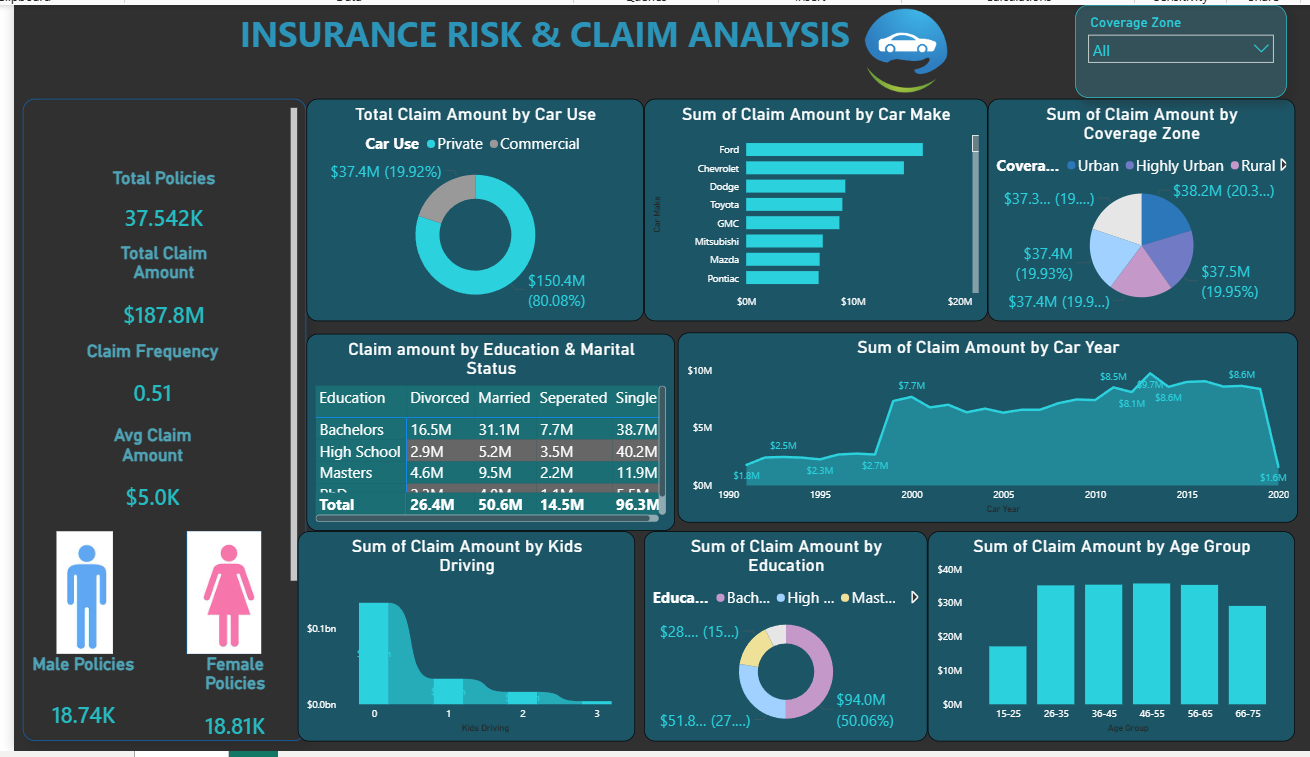

This screenshot's page, from the dashboard's own definition file:
{"tool":"powerbi","page":{"name":"Page 1","canvas":[1600,920],"ordinal":0},"visuals":[{"type":"cardVisual","title":"Total Policies","fields":{"Data":["insurance_data_car.Total Policies"]},"box":[78.6,200.4,212.7,92.5],"z":0},{"type":"cardVisual","title":"Total Claim Amount","fields":{"Data":["Sum(insurance_data_car.Claim Amount)"]},"box":[78.6,292.9,212.7,121.8],"z":1000},{"type":"cardVisual","title":"Claim Frequency","fields":{"Data":["Avg(insurance_data_car.Claim Freq)"]},"box":[64.7,414.7,212.7,97.1],"z":2000},{"type":"cardVisual","title":"Avg Claim Amount","fields":{"Data":["Avg(insurance_data_car.Claim Amount)"]},"box":[64.7,518,212.7,120.2],"z":3000},{"type":"cardVisual","title":"Male Policies","fields":{"Data":["insurance_data_car.Male Policies"]},"box":[0,800.1,171.1,120.2],"z":4000},{"type":"cardVisual","title":"Female Policies","fields":{"Data":["insurance_data_car.Female Policies"]},"box":[185,800.1,175.7,120.2],"z":5000},{"type":"image","box":[212.7,649,92.5,151.1],"z":6000},{"type":"image","box":[10.8,649,152.6,151.1],"z":7000},{"type":"textbox","box":[10.8,115.6,349.9,792.4],"z":8000},{"type":"donutChart","title":"Total Claim Amount by Car Use","fields":{"Category":["insurance_data_car.Car Use"],"Y":["Sum(insurance_data_car.Claim Amount)"]},"box":[360.7,115.6,416.2,274.4],"z":9000},{"type":"barChart","fields":{"Category":["insurance_data_car.Car Make"],"Y":["Sum(insurance_data_car.Claim Amount)"]},"box":[776.9,115.6,423.9,274.4],"z":10000},{"type":"pieChart","fields":{"Category":["insurance_data_car.Coverage Zone"],"Y":["Sum(insurance_data_car.Claim Amount)"]},"box":[1200.9,115.6,379.2,274.4],"z":11000},{"type":"areaChart","fields":{"Category":["insurance_data_car.Car Year"],"Y":["Sum(insurance_data_car.Claim Amount)"]},"box":[818.6,403.9,764.6,234.3],"z":12000},{"type":"ribbonChart","fields":{"Category":["insurance_data_car.Kids Driving"],"Y":["Sum(insurance_data_car.Claim Amount)"]},"box":[349.9,649,416.2,259],"z":13000},{"type":"donutChart","fields":{"Category":["insurance_data_car.Education"],"Y":["Sum(insurance_data_car.Claim Amount)"]},"box":[776.9,649,349.9,259],"z":14000},{"type":"pivotTable","title":"Claim amount by Education & Marital Status","fields":{"Rows":["insurance_data_car.Education"],"Columns":["insurance_data_car.Marital Status"],"Values":["insurance_data_car.Claim Amount (M)"]},"box":[360.7,405.4,454.8,243.6],"z":15000},{"type":"columnChart","fields":{"Y":["Sum(insurance_data_car.Claim Amount)"],"Category":["insurance_data_car.Age Group","insurance_data_car.Age Group Sort"]},"box":[1127,649,453,259],"z":16000},{"type":"slicer","fields":{"Values":["insurance_data_car.Coverage Zone"]},"box":[1308.8,0,260.5,114.1],"z":17000},{"type":"textbox","box":[0,0,1308.8,103.3],"z":18000},{"type":"image","box":[998.9,4.6,201.9,103.3],"z":19000}]}

Visuals, with their boxes in screenshot pixels (x1, y1, x2, y2):
"Total Policies" cardVisual: x1=63, y1=179, x2=235, y2=254
"Total Claim Amount" cardVisual: x1=63, y1=254, x2=235, y2=352
"Claim Frequency" cardVisual: x1=52, y1=352, x2=224, y2=430
"Avg Claim Amount" cardVisual: x1=52, y1=435, x2=224, y2=532
"Male Policies" cardVisual: x1=0, y1=663, x2=138, y2=756
"Female Policies" cardVisual: x1=149, y1=663, x2=291, y2=756
image: x1=172, y1=541, x2=246, y2=663
image: x1=9, y1=541, x2=132, y2=663
textbox: x1=9, y1=110, x2=291, y2=750
"Total Claim Amount by Car Use" donutChart: x1=291, y1=110, x2=627, y2=332
barChart - insurance_data_car.Car Make x Sum(insurance_data_car.Claim Amount): x1=627, y1=110, x2=970, y2=332
pieChart - insurance_data_car.Coverage Zone x Sum(insurance_data_car.Claim Amount): x1=970, y1=110, x2=1276, y2=332
areaChart - insurance_data_car.Car Year x Sum(insurance_data_car.Claim Amount): x1=661, y1=343, x2=1278, y2=532
ribbonChart - insurance_data_car.Kids Driving x Sum(insurance_data_car.Claim Amount): x1=283, y1=541, x2=619, y2=750
donutChart - insurance_data_car.Education x Sum(insurance_data_car.Claim Amount): x1=627, y1=541, x2=910, y2=750
"Claim amount by Education & Marital Status" pivotTable: x1=291, y1=344, x2=658, y2=541
columnChart - Sum(insurance_data_car.Claim Amount) x insurance_data_car.Age Group: x1=910, y1=541, x2=1276, y2=750
slicer - insurance_data_car.Coverage Zone: x1=1057, y1=17, x2=1267, y2=109
textbox: x1=0, y1=17, x2=1057, y2=100
image: x1=807, y1=21, x2=970, y2=104
